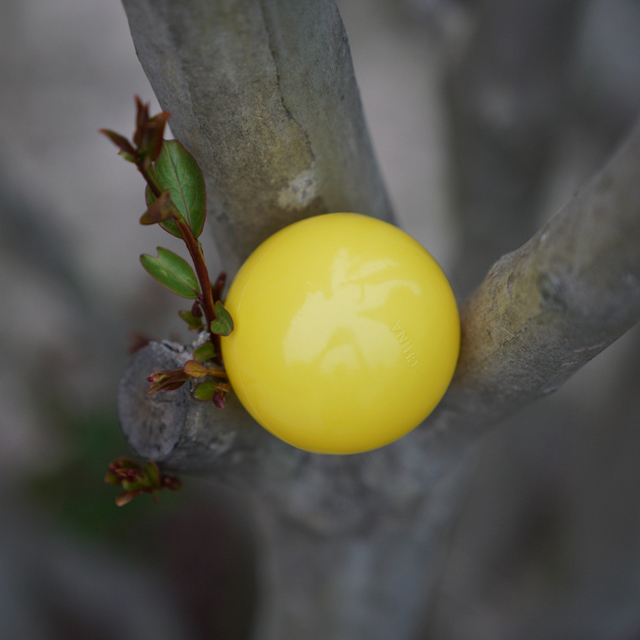Ball: (216, 213, 462, 456)
